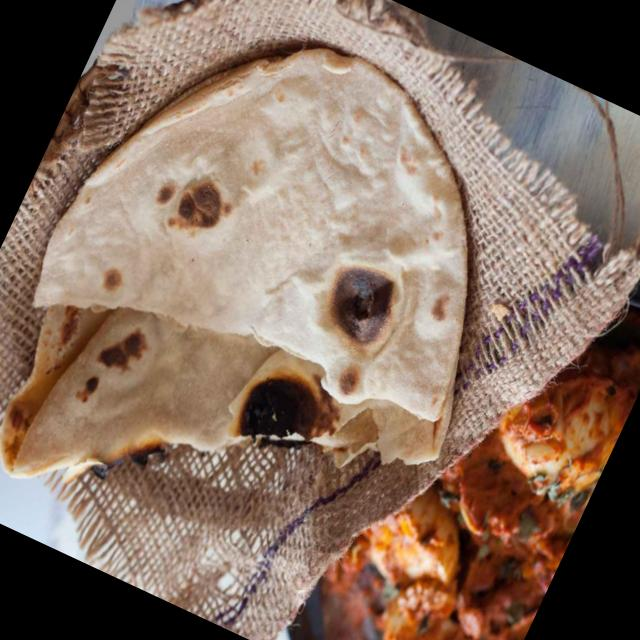roti: (37, 50, 468, 413), (3, 305, 455, 477)
